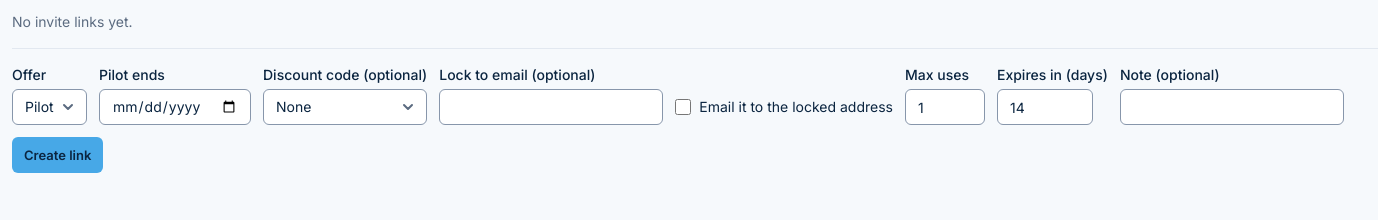
InviteLinks › shows a refusal from the action
Click the button "Create link" at (58, 155), box [12,137,103,173]
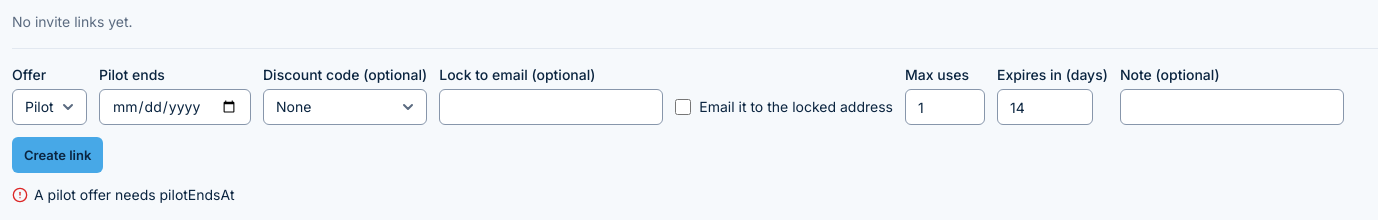
Expected: the message shows "pilot", [34,186,234,203]
